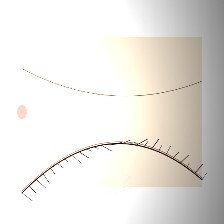foreign_body_visible: (68, 72, 106, 102)
